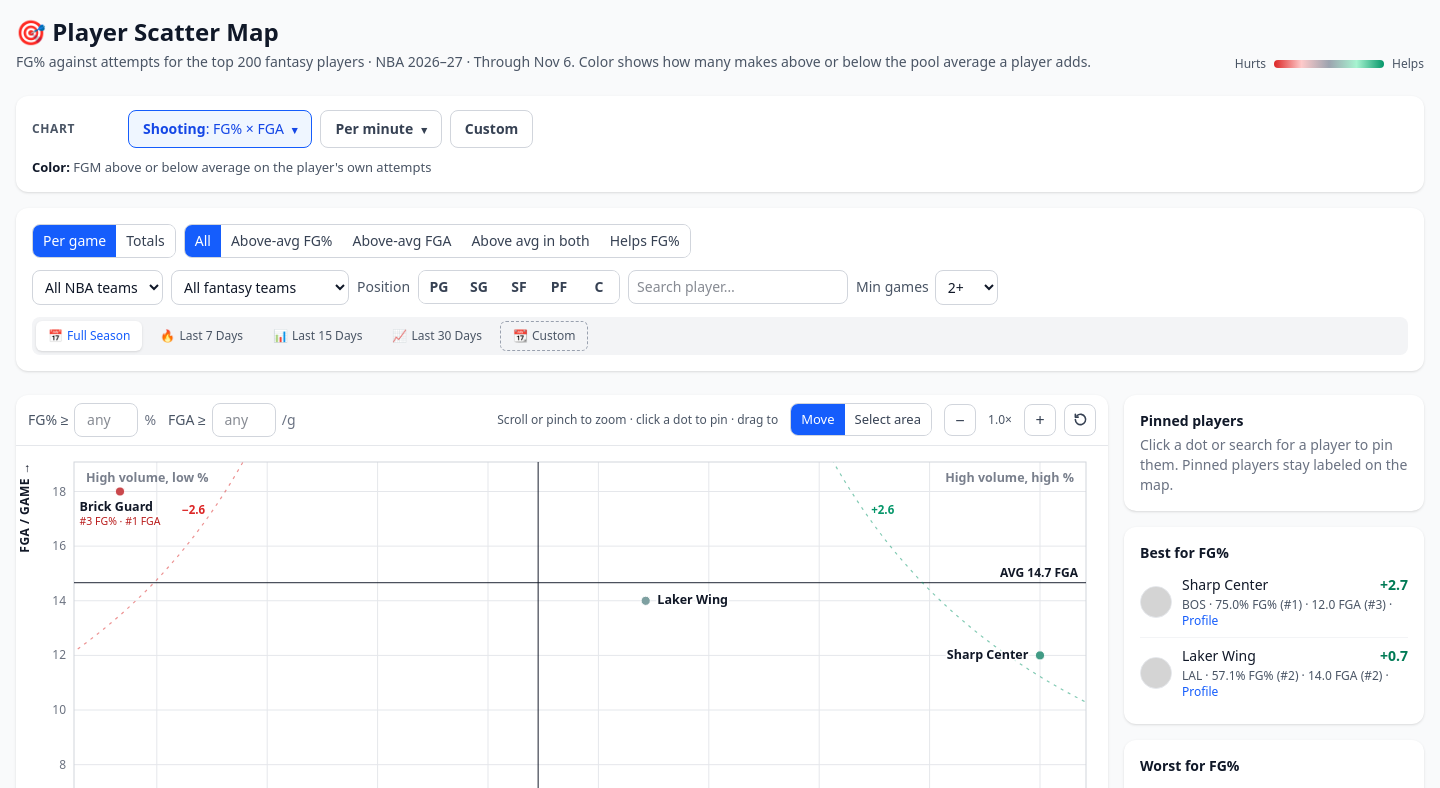
it: ShootingMap page › says so when the search finds nobody
expect the heading "Best for FG%" is shown: met, box [1140, 542, 1229, 562]
In the field named "Find a player": (738, 287) [628, 270, 848, 304], type "zzz"
Then press Enter
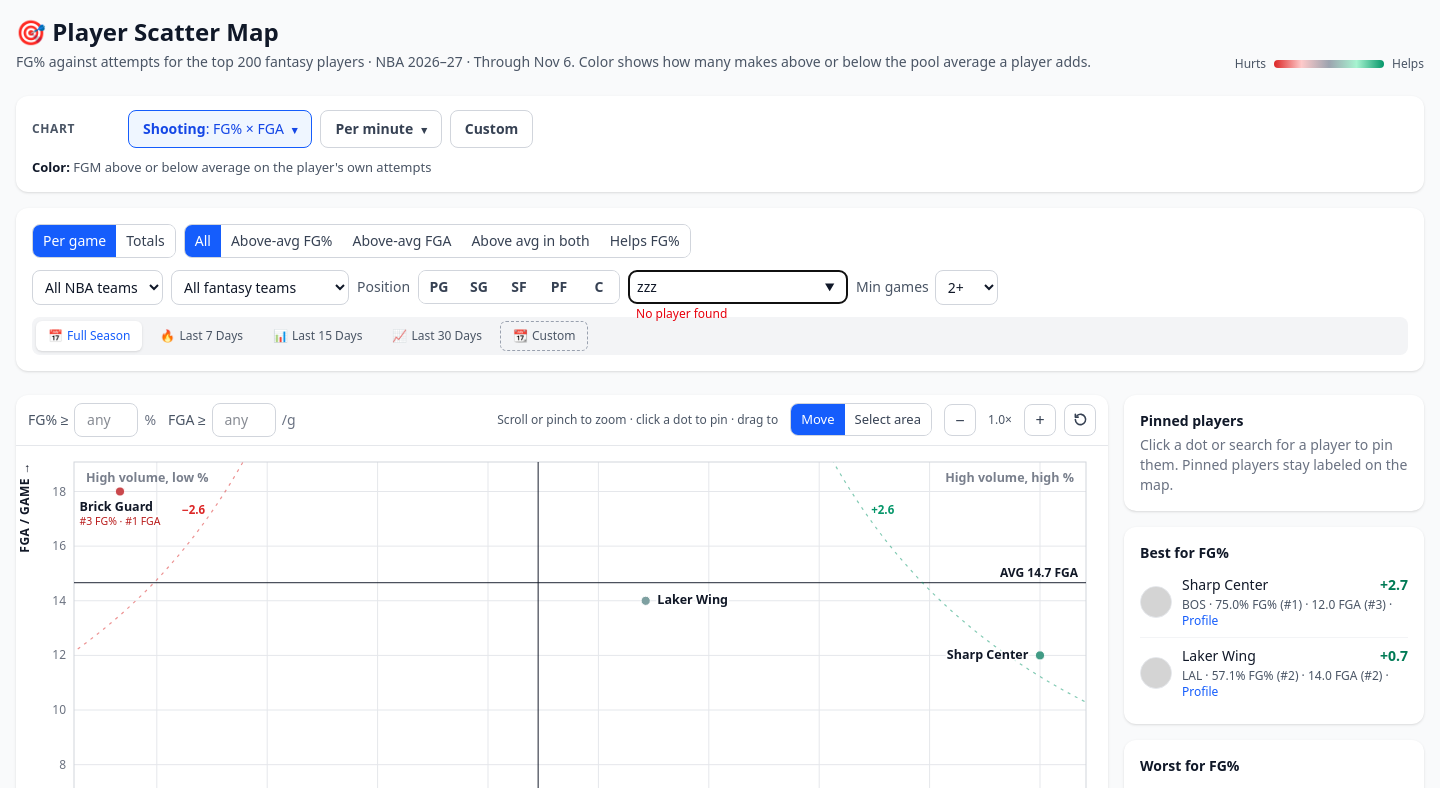
expect the message reads "No player found": met, box [636, 305, 727, 322]
